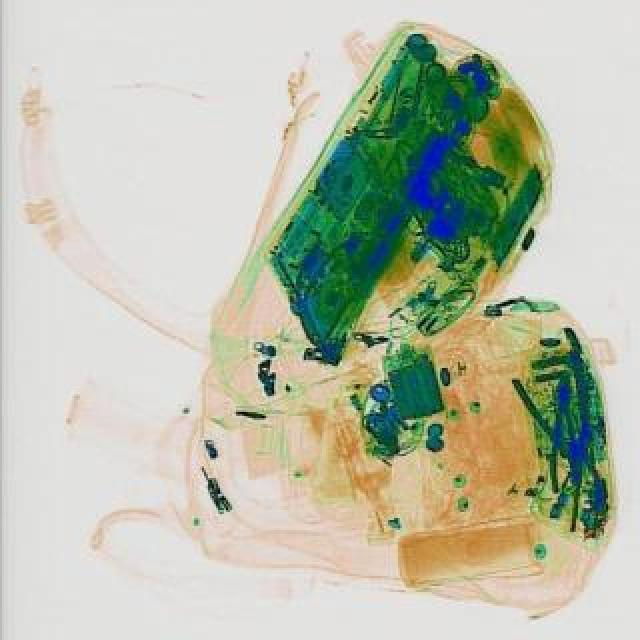wrench: (506, 350, 628, 500), (544, 378, 584, 496)
